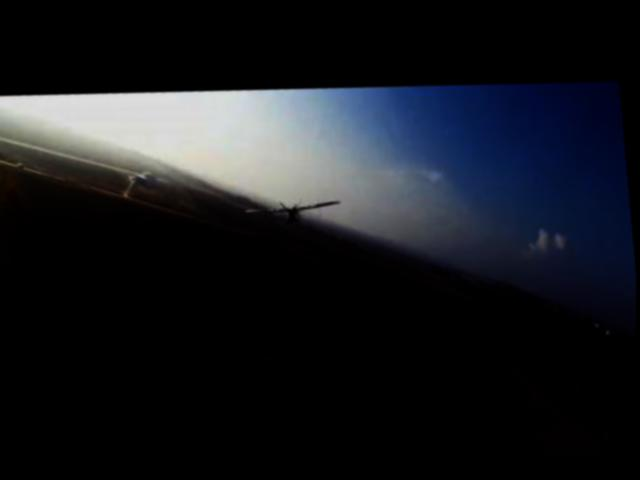uav: (240, 179, 347, 231)
